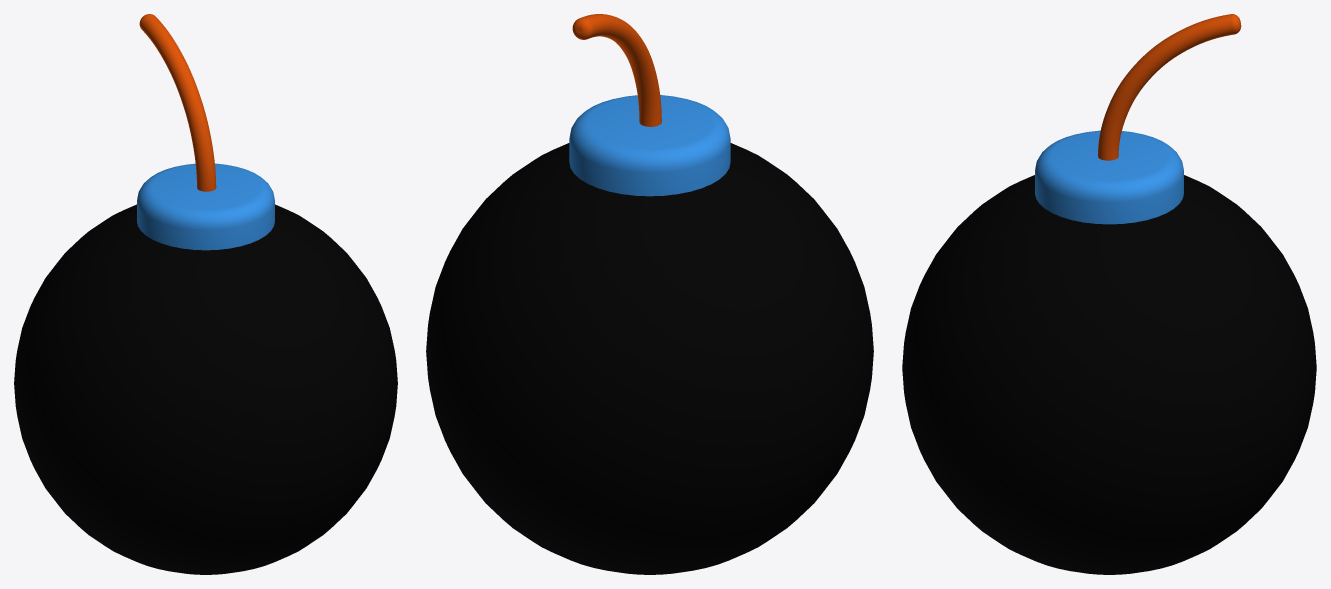
The model's file is bomb_1G.fbx.
3 views of the same model, side by side, from view 1: azimuth 30°, elevation 25°; view 2: azimuth 150°, elevation 25°; view 3: azimuth 270°, elevation 25° (orthographic). The views are drawn at different scales.
Visible parts, largest first — view 1: than, dau, day; view 2: than, dau, day; view 3: than, dau, day.
Boxes of the visible parts, box(x1,y1,x2,y2) form: than: box(14, 204, 397, 574); dau: box(137, 163, 274, 250); day: box(139, 14, 216, 191); than: box(426, 143, 873, 574); dau: box(569, 95, 730, 196); day: box(572, 14, 661, 126); than: box(902, 175, 1316, 574); dau: box(1035, 130, 1183, 224); day: box(1098, 14, 1241, 160).
Size of the model in its own units: 200 by 288 by 200.
